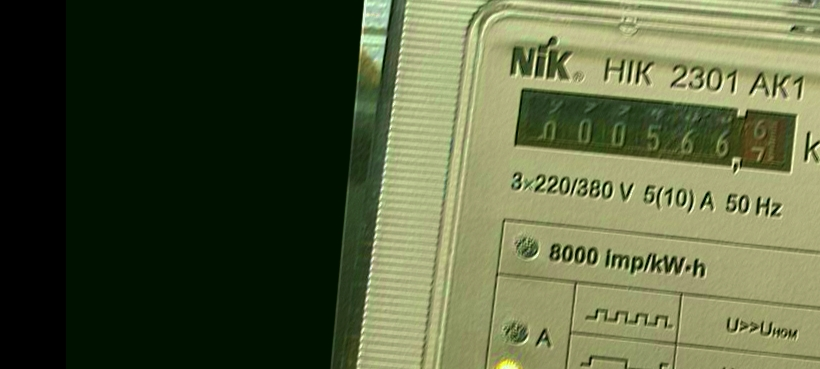0: (607, 120, 628, 151), (573, 116, 593, 146), (537, 118, 559, 142)
5: (642, 123, 662, 154)
6: (711, 128, 732, 160), (675, 127, 696, 157), (750, 118, 768, 145)
7: (747, 146, 765, 165)
9: (544, 96, 564, 118)
screen: (503, 81, 802, 183)
